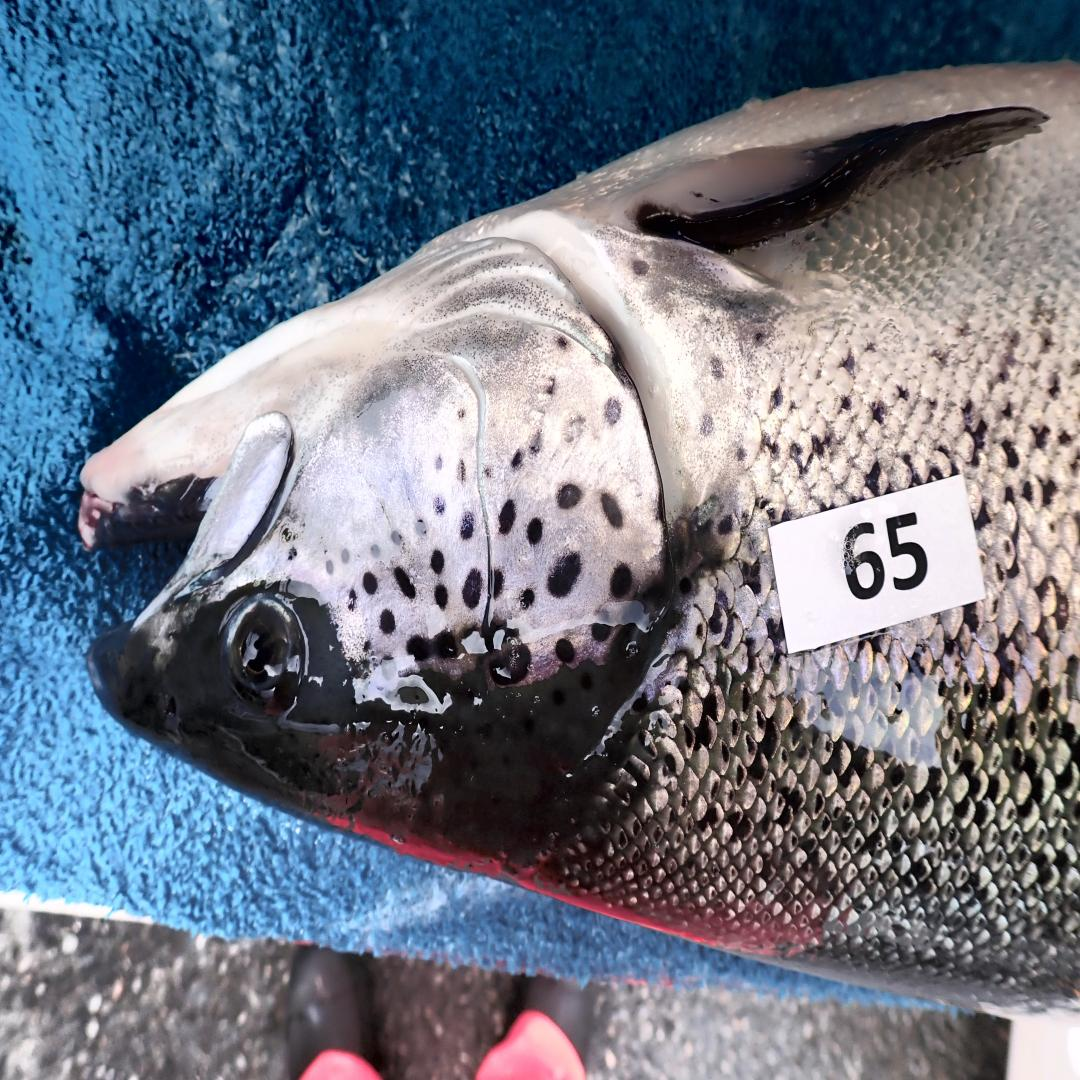spot: (485, 636, 532, 686), (546, 551, 582, 596), (462, 568, 483, 610), (610, 562, 633, 599), (601, 492, 622, 529), (592, 609, 613, 642), (394, 568, 416, 599), (498, 501, 517, 534), (557, 484, 582, 509), (561, 417, 585, 443), (555, 638, 576, 664), (603, 397, 622, 425), (407, 636, 429, 660), (379, 609, 397, 636), (435, 635, 457, 657), (527, 518, 542, 546), (460, 512, 475, 540), (430, 548, 445, 574), (363, 571, 378, 594), (519, 588, 534, 610), (529, 433, 542, 456), (554, 335, 571, 352), (435, 585, 447, 608), (511, 449, 523, 472), (433, 495, 446, 515), (494, 571, 504, 596), (390, 529, 403, 546), (457, 460, 466, 484), (415, 520, 426, 537), (347, 590, 356, 610), (435, 454, 443, 471), (548, 376, 555, 395), (370, 545, 380, 557), (288, 547, 297, 560), (326, 561, 334, 575), (342, 548, 350, 562), (457, 409, 465, 422), (363, 640, 371, 651), (483, 466, 491, 476)
